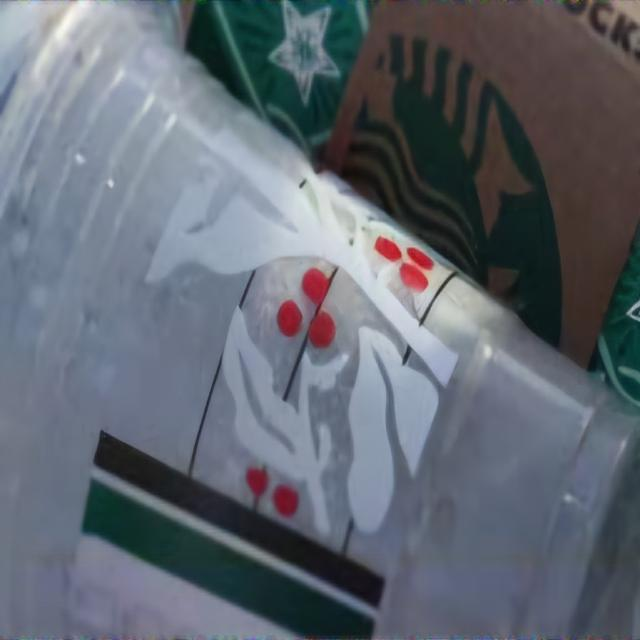plastic cup: (3, 0, 640, 635)
